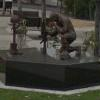Statue: (38, 9, 89, 60)
